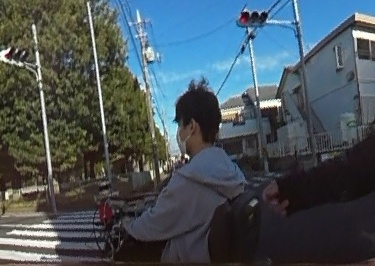person: (129, 89, 239, 266)
